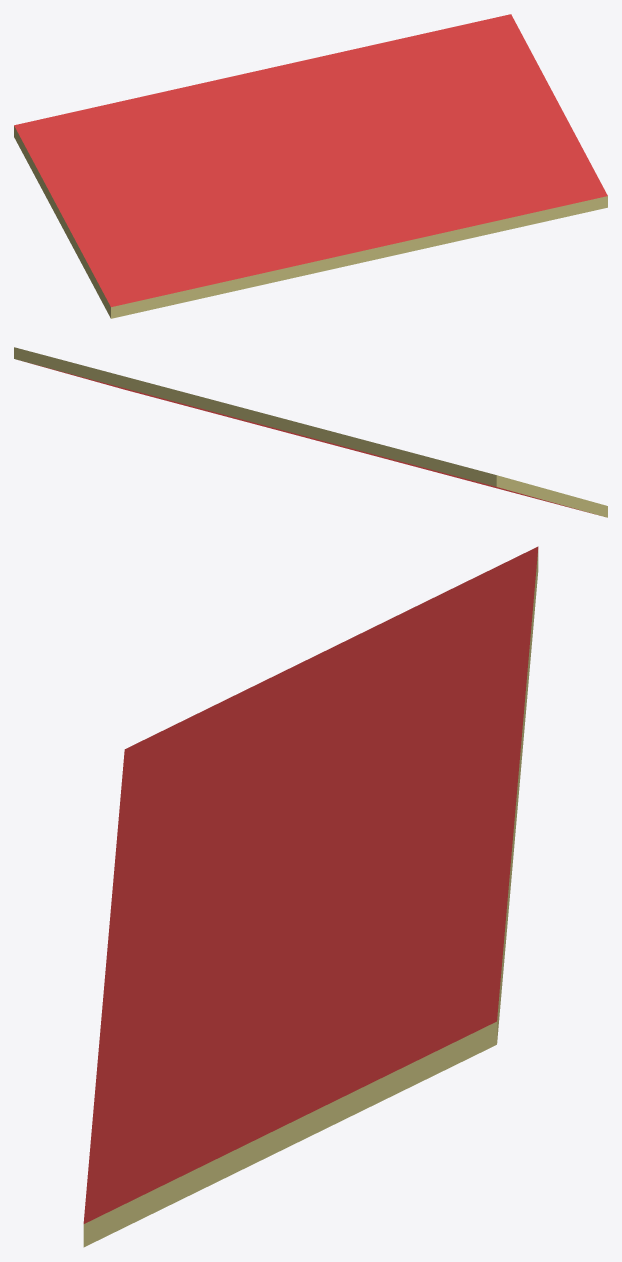
3 views of the same model, one above another, from view 1: azimuth 30°, elevation 25°; view 2: azimuth 150°, elevation 25°; view 3: azimuth 270°, elevation 25° (orthographic). The views are drawn at different scales.
Size of the model in its own units: 4.44 by 1.77 by 1.
